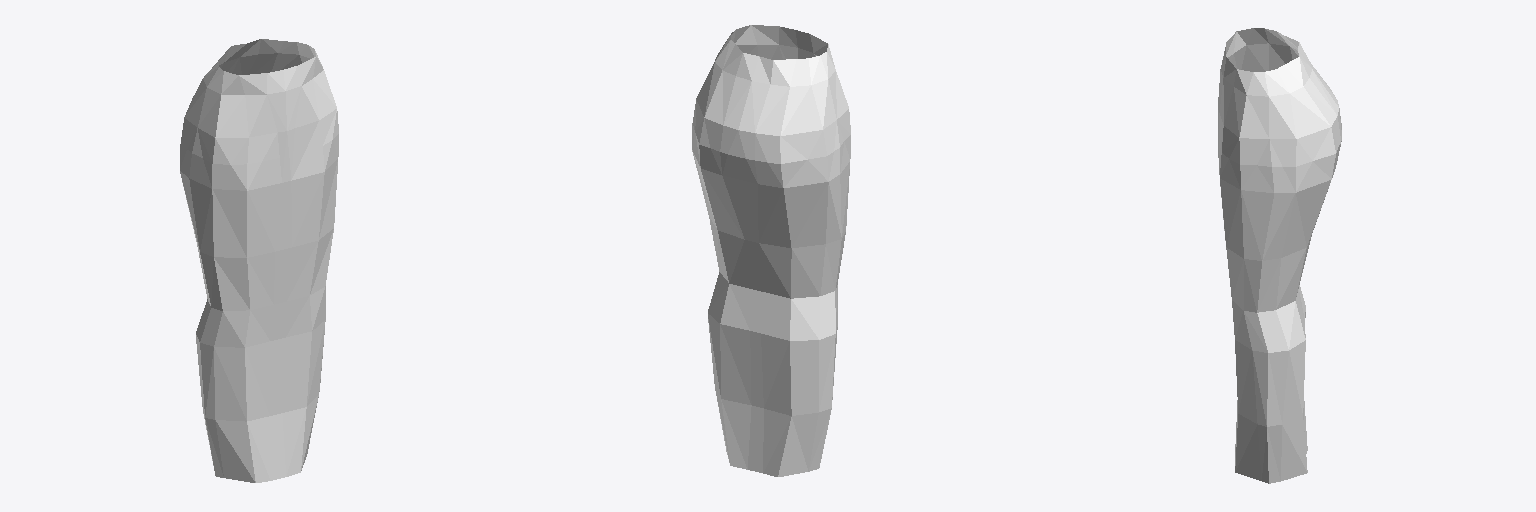
File: avatar_skirt-skirt_tight.obj
3 views of the same model, side by side, from view 1: azimuth 30°, elevation 25°; view 2: azimuth 150°, elevation 25°; view 3: azimuth 270°, elevation 25° (orthographic).
Parts seen in each view (by area): view 1: g1_avatar_skirt; view 2: g1_avatar_skirt; view 3: g1_avatar_skirt.
Boxes of the visible parts, <box> form: g1_avatar_skirt: <box>180,39,338,482</box>; g1_avatar_skirt: <box>692,25,850,476</box>; g1_avatar_skirt: <box>1218,28,1341,483</box>.
Size of the model in its own units: 0.3956 by 1.12 by 0.307.